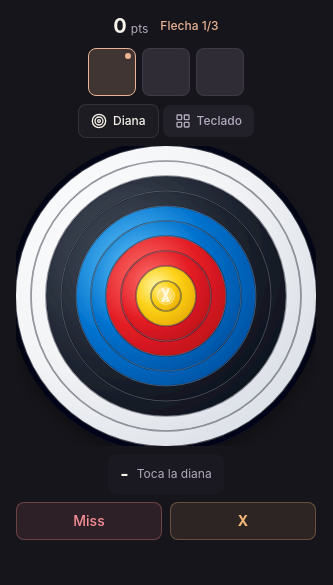
Scenario: EndInput › editing existing arrows › allows editing an earlier arrow without losing completion flow
What coordinates should you click on to do the following:
click the button named "diez de oro"
I would click on:
 (243, 521)
Its box is [170, 502, 316, 540].
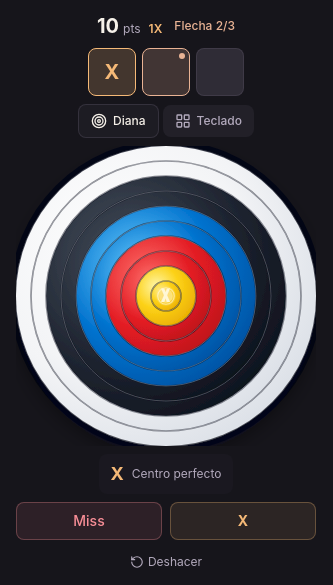
What coordinates should you click on to do the following:
click the button named "diez de oro"
I would click on:
 (243, 521)
Its box is [170, 502, 316, 540].
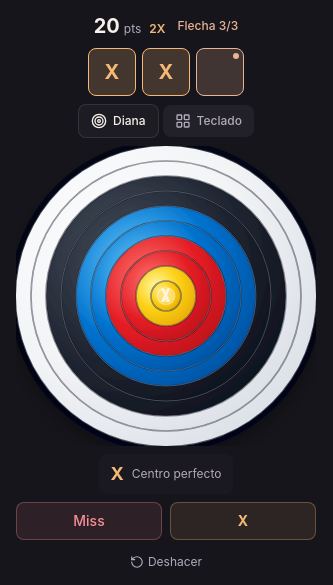
What coordinates should you click on to do the following:
click the button named "diez de oro"
I would click on:
 (243, 521)
Its box is [170, 502, 316, 540].
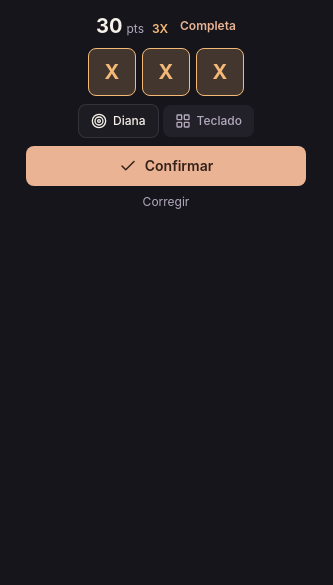
What coordinates should you click on to do the following:
click the button named "flecha"
I would click on:
 (166, 72)
Its box is [142, 48, 190, 96].
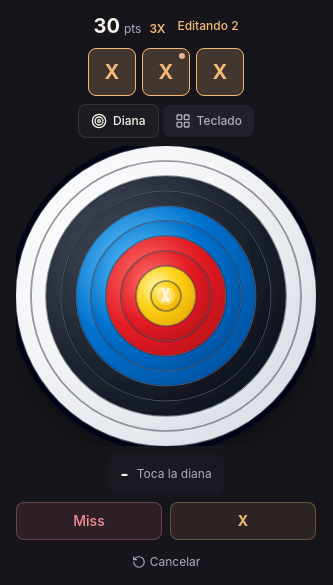
Check: the text "Editando 2" is shown, box [177, 18, 238, 33]
What coordinates should you click on to do the following:
click the radio button labelled "Teclado"
I would click on:
 (208, 121)
Its box is [163, 105, 254, 137].
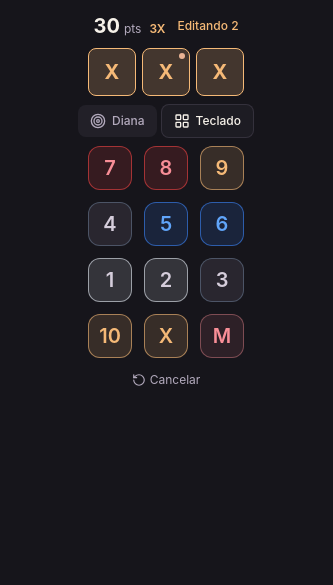
What coordinates should you click on to do the following:
click the button named "siete puntos"
I would click on:
 (110, 168)
Its box is [88, 146, 132, 190].
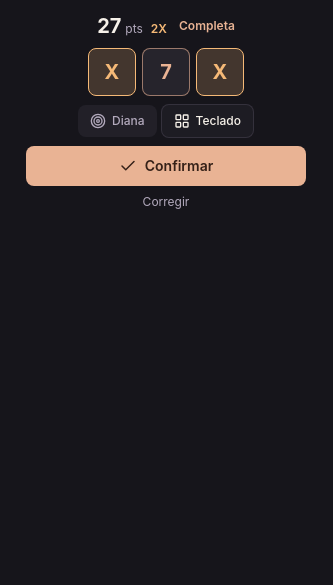
Check: the button named "flecha" reads "7", box [142, 48, 190, 96]
Check: the button "Confirmar" is shown, box [26, 146, 306, 186]
